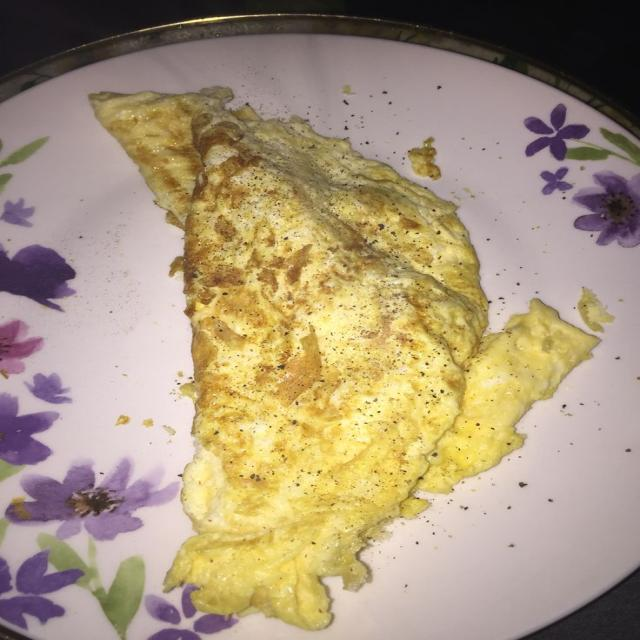omelette: (92, 89, 597, 629)
